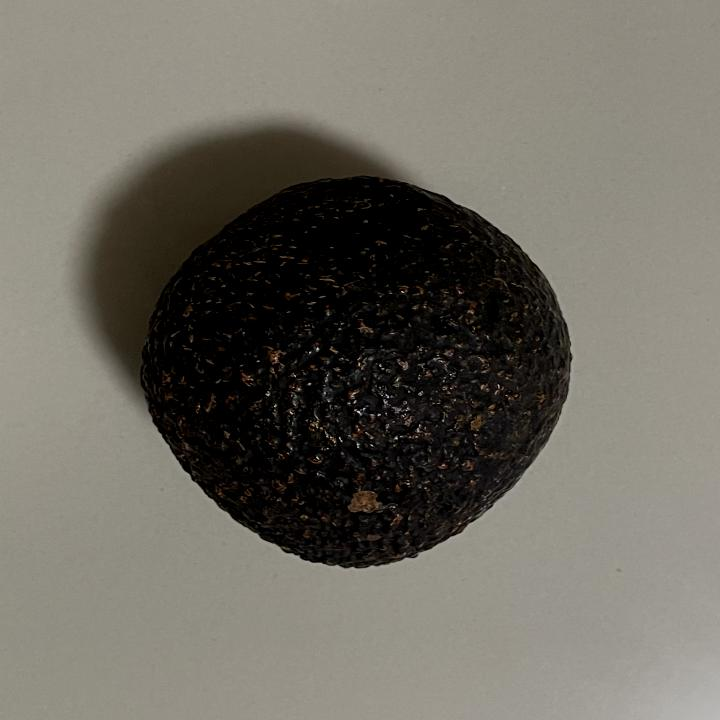Level2: (131, 170, 579, 577)
